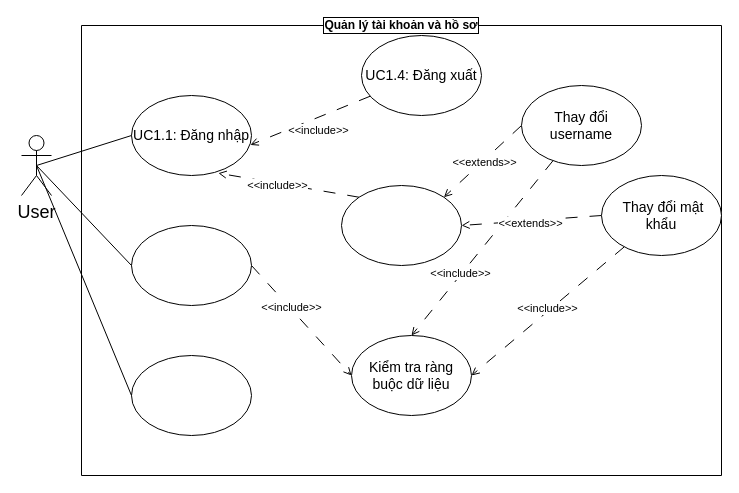
This 739x493 diagram has some shape labels left out. Here are the shapes that lost their labels. From the top down, the centre of each, then its label:
At pixel 401 225: "UC1.5: Chỉnh sửa hồ sơ".
At pixel 191 265: "UC1.2: Đăng ký".
At pixel 191 395: "UC1.3: Khôi phục mật khẩu".
